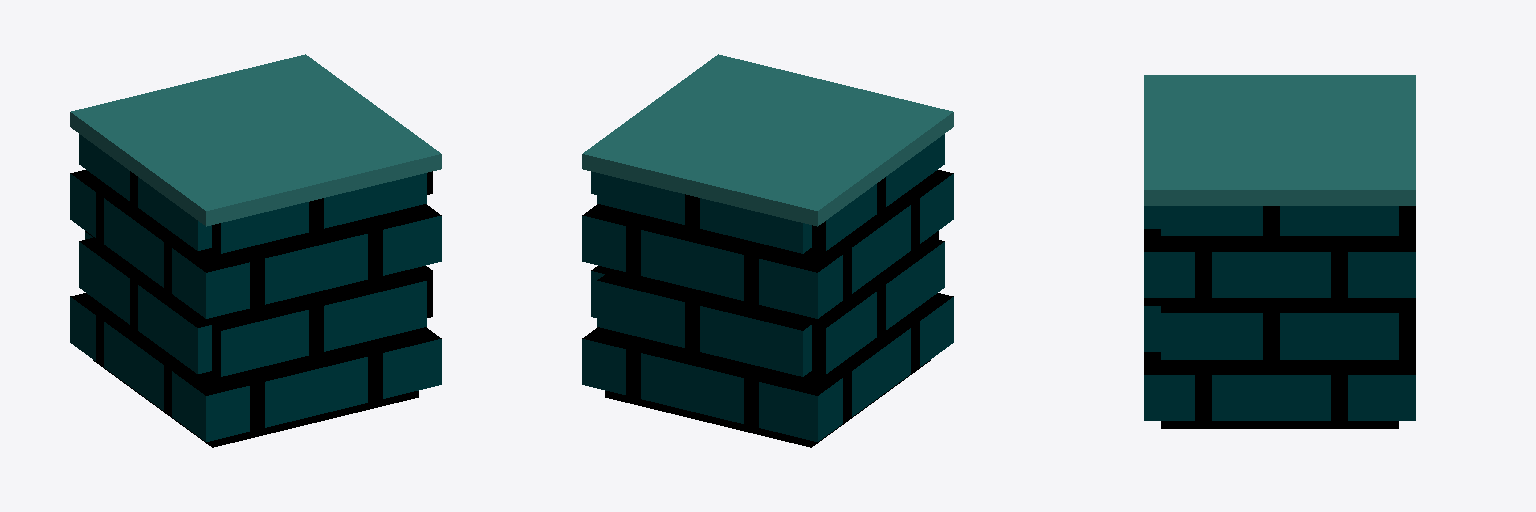
The model's file is undergroundBrick.obj.
3 views of the same model, side by side, from view 1: azimuth 30°, elevation 25°; view 2: azimuth 150°, elevation 25°; view 3: azimuth 270°, elevation 25° (orthographic).
Bounding box in the file's own units: 2.25 × 2.25 × 2.25.